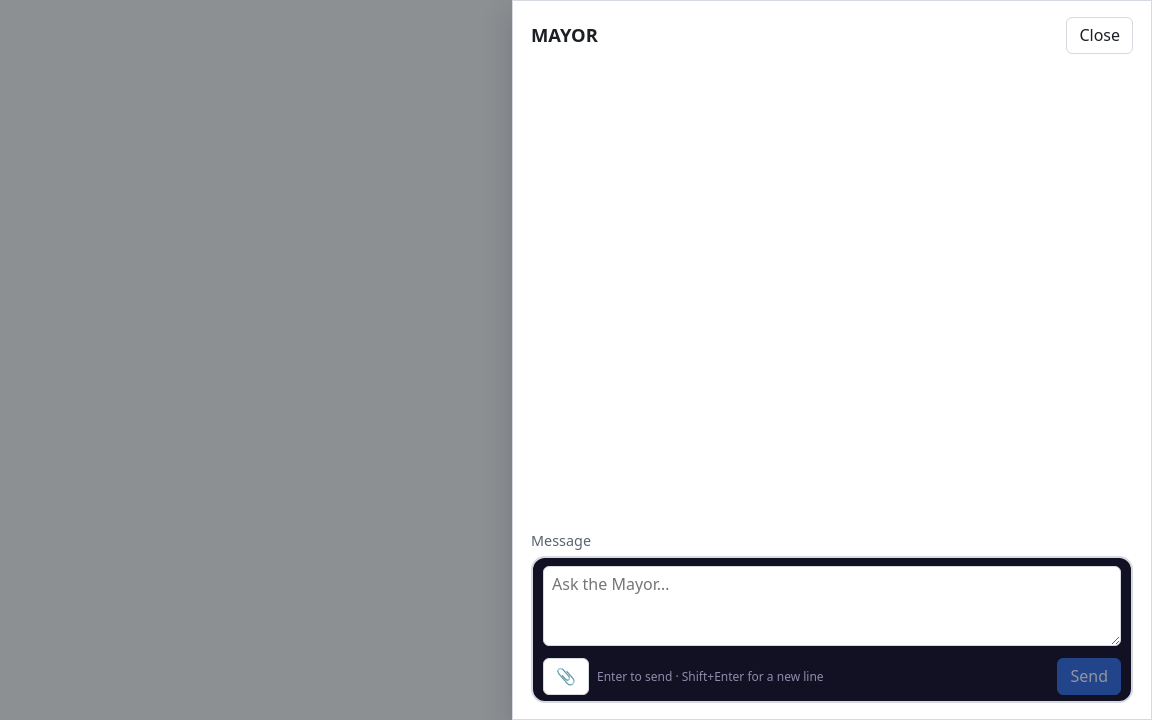
Test: a 409 shows the Mayor-is-busy alert
Type "hi" into the text box labelled "Message" at (832, 606), box [543,566,1121,646]
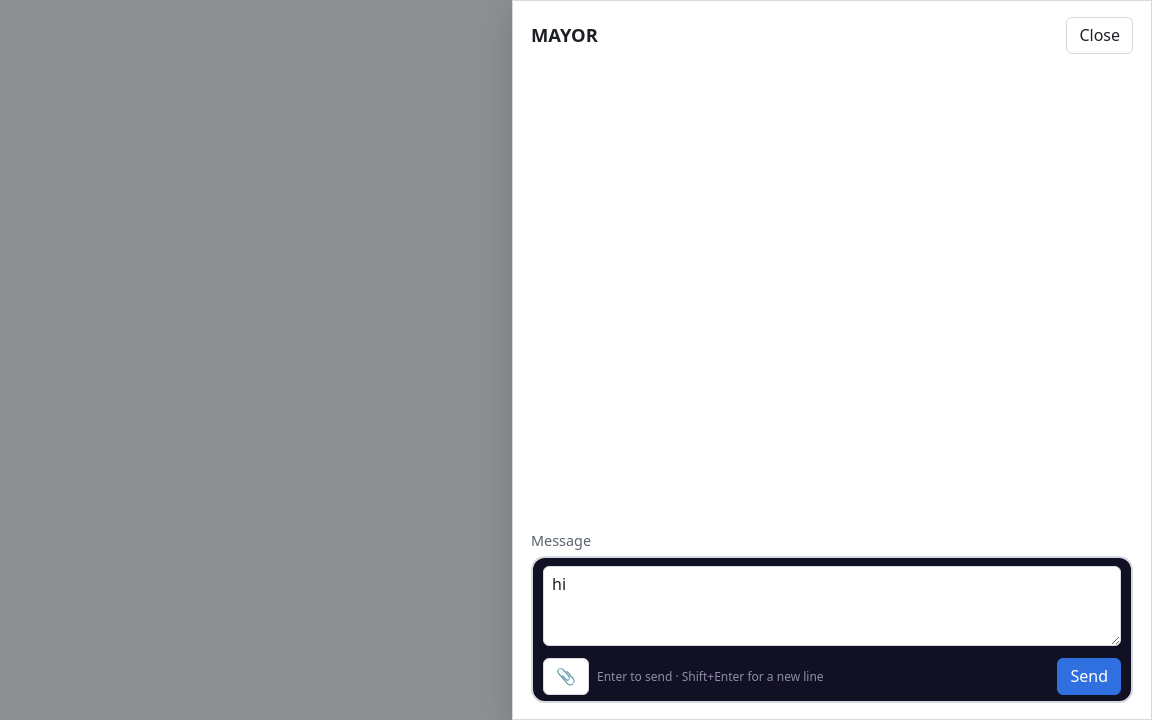
Click the button "Send" at (1089, 676), box [1058,658,1121,695]
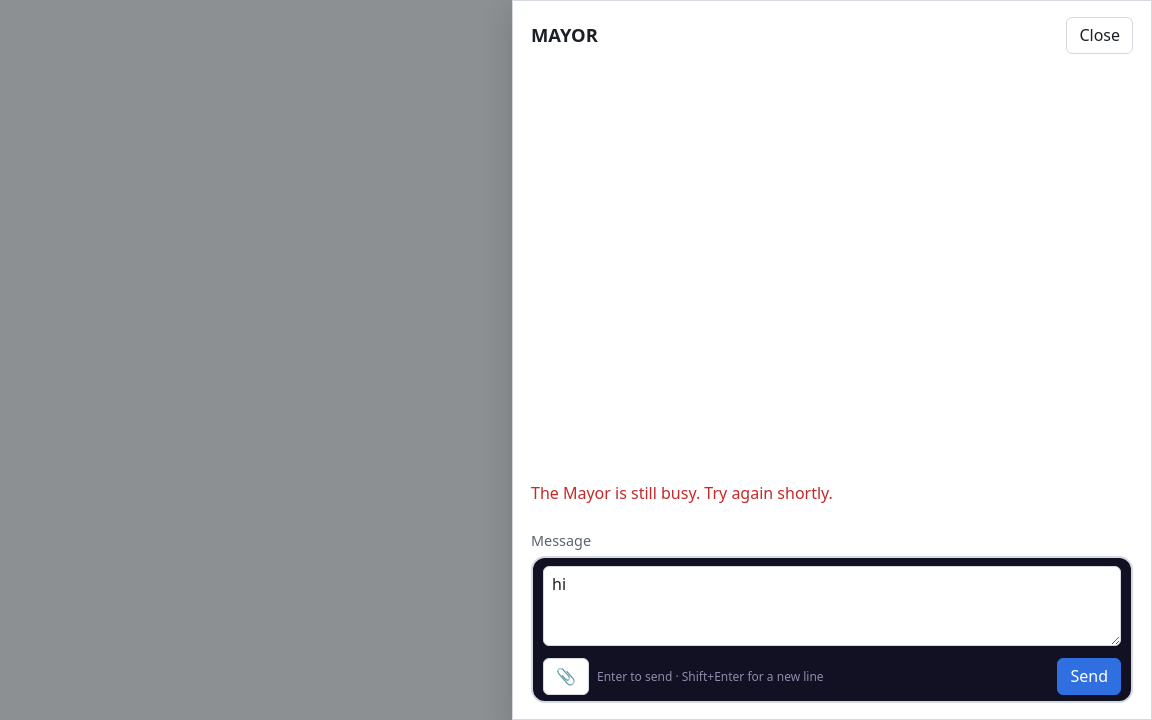
Now the message shows "Mayor is still busy", box [531,482,833,504]
